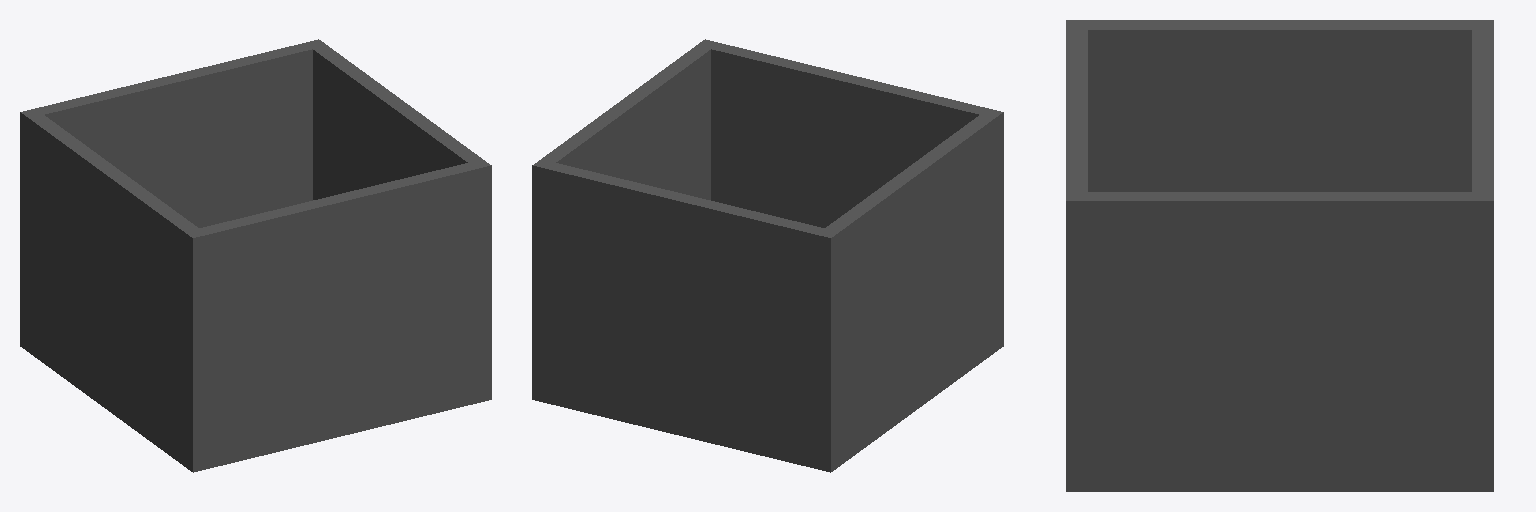
URDF robot description (box):
<?xml version="1.0" ?>
<robot name="box">
  <link name="baseLink">
    <contact>
      <lateral_friction value="1.0"/>
      <rolling_friction value="0.0"/>
      <contact_cfm value="0.0"/>
      <contact_erp value="1.0"/>
    </contact>
    <inertial>
      <origin rpy="0 0 0" xyz="0 0 0"/>
       <mass value="0.1"/>
       <inertia ixx="1" ixy="0" ixz="0" iyy="1" iyz="0" izz="1"/>
    </inertial>
    <visual>
      <origin rpy="0 0 0" xyz="0 0 0"/>
      <geometry>
		<mesh filename="kiste_m.stl" scale="1 1 1"/>
      </geometry>
       <material name="red">
        <color rgba="0.4 0.4 0.4 1"/>
      </material>
    </visual>
    <collision>
      <geometry>
		<mesh filename="kiste01_m.stl" scale="1 1 1"/>
      </geometry>
    </collision>
    <collision>
      <geometry>
		<mesh filename="kiste02_m.stl" scale="1 1 1"/>
      </geometry>
    </collision>
    <collision>
      <geometry>
		<mesh filename="kiste03_m.stl" scale="1 1 1"/>
      </geometry>
    </collision>
    <collision>
      <geometry>
		<mesh filename="kiste04_m.stl" scale="1 1 1"/>
      </geometry>
    </collision>
    <collision>
      <geometry>
		<mesh filename="kiste05_m.stl" scale="1 1 1"/>
      </geometry>

    </collision>
  </link>

</robot>

--- Render facts (derived) ---
Views: 3 orthographic renders of the robot side by side, from view 1: azimuth 30°, elevation 25°; view 2: azimuth 150°, elevation 25°; view 3: azimuth 270°, elevation 25°.
Model box with 1 links and 0 joints (none), rooted at baseLink, posed every joint at zero.
Links seen in each view (by area): view 1: baseLink; view 2: baseLink; view 3: baseLink.
Boxes of the visible links, x1,y1,x2,y2 form: baseLink: [20, 39, 491, 472]; baseLink: [532, 39, 1003, 472]; baseLink: [1066, 20, 1493, 491].
Bounding box of the posed robot: 0.2 × 0.2 × 0.15 m (x, y, z).
1 mesh visuals loaded from 1 distinct referenced files (1 binary STL).
